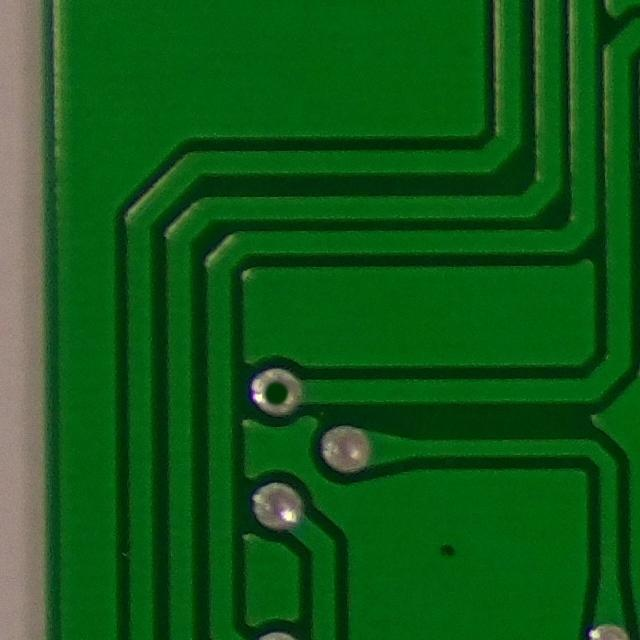missing_hole: (238, 357, 311, 421)
